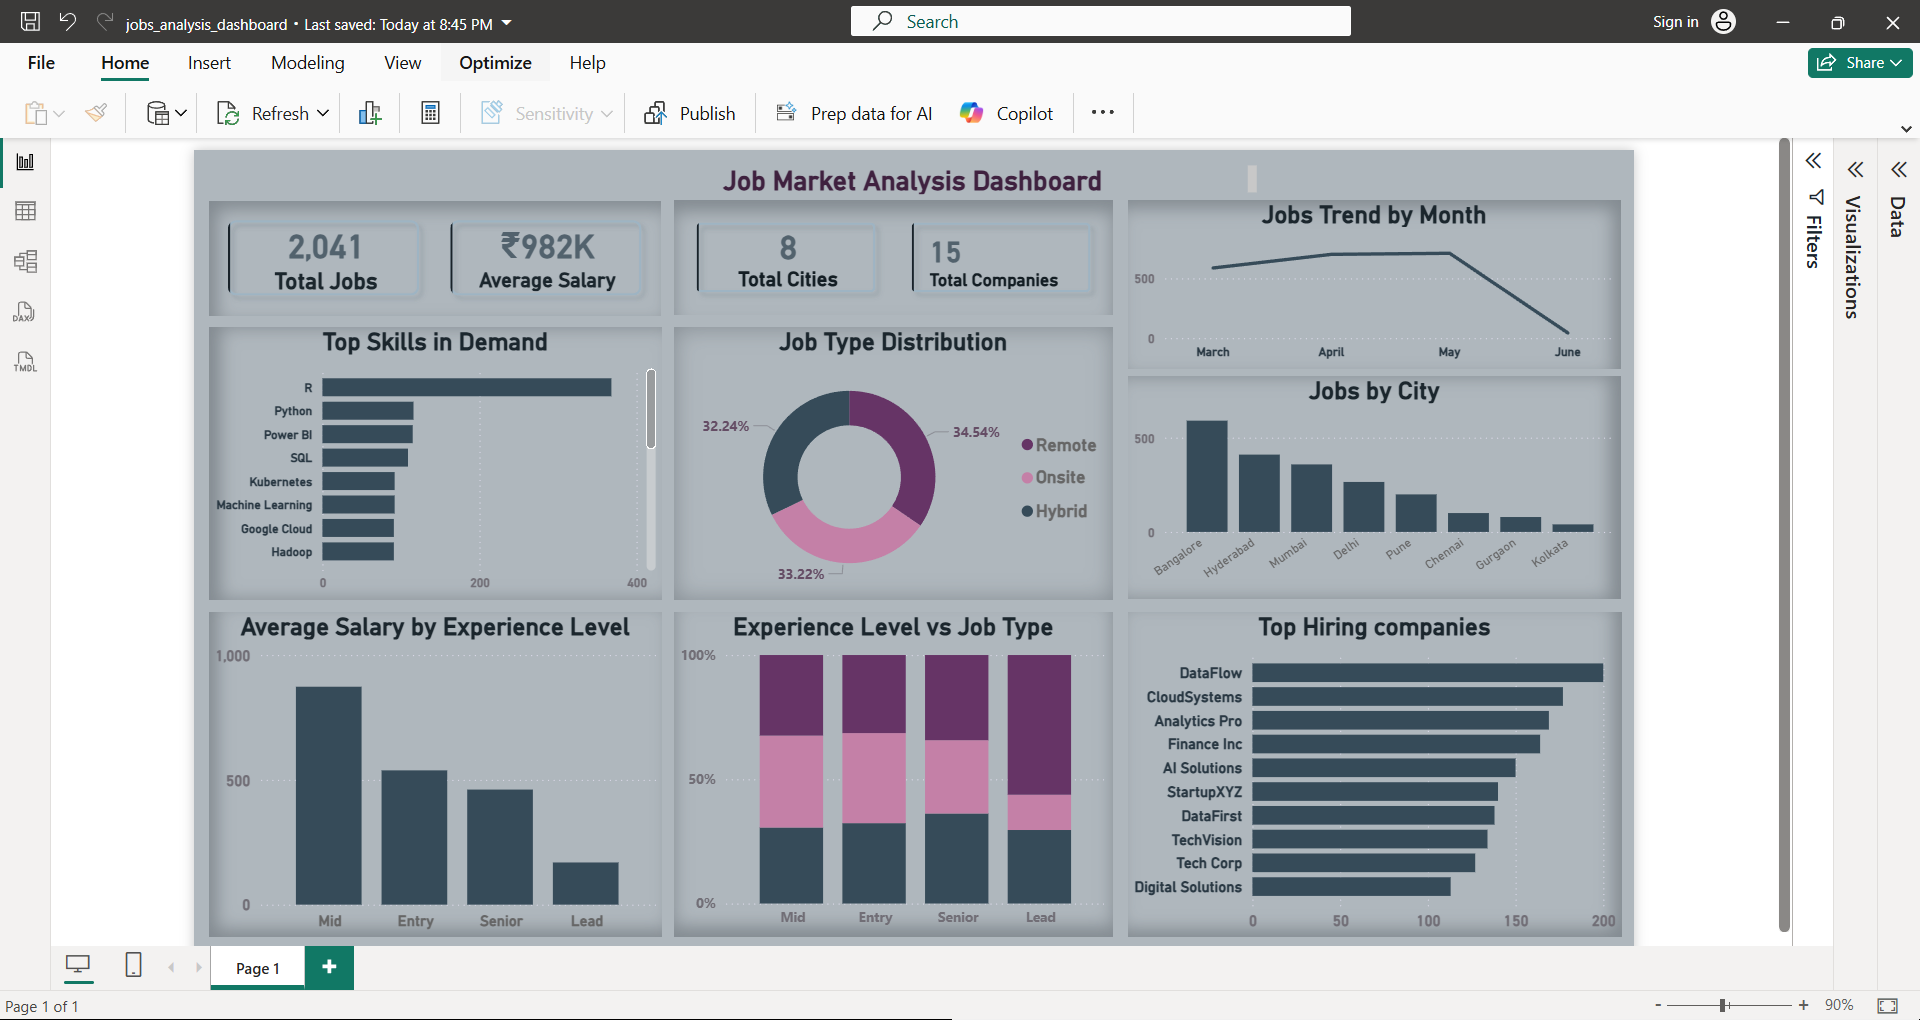

Layout of this report page (visuals, bound fields, positions):
{"tool":"powerbi","page":{"name":"Page 1","canvas":[1280,720],"ordinal":0},"visuals":[{"type":"cardVisual","fields":{"Data":["CountNonNull(job_market_for_powerbi.job_id)","Avg(job_market_for_powerbi.salary_avg)"]},"box":[13.3,45,401.7,101.7],"z":0},{"type":"clusteredColumnChart","title":"Jobs by City","fields":{"Y":["CountNonNull(job_market_for_powerbi.job_id)"],"Category":["job_market_for_powerbi.location_clean"]},"box":[830,201.4,438.6,198.6],"z":1000},{"type":"donutChart","title":"Job Type Distribution","fields":{"Category":["job_market_for_powerbi.job_type"],"Y":["CountNonNull(job_market_for_powerbi.job_id)"]},"box":[426.7,157.8,390,242.2],"z":2000},{"type":"hundredPercentStackedColumnChart","title":"Experience Level vs Job Type","fields":{"Category":["job_market_for_powerbi.experience_level"],"Y":["CountNonNull(job_market_for_powerbi.job_id)"],"Series":["job_market_for_powerbi.job_type"]},"box":[426.7,411.1,390,288.9],"z":3000},{"type":"clusteredBarChart","title":"Top Hiring companies","fields":{"Category":["job_market_for_powerbi.company"],"Y":["CountNonNull(job_market_for_powerbi.job_id)"]},"box":[830,411.1,438.9,288.9],"z":4000},{"type":"clusteredColumnChart","title":"Average Salary by Experience Level","fields":{"Category":["job_market_for_powerbi.experience_level"],"Y":["CountNonNull(job_market_for_powerbi.salary_avg)"]},"box":[13.3,411.1,402.2,288.9],"z":5000},{"type":"lineChart","title":"Jobs Trend by Month","fields":{"Category":["job_market_for_powerbi.month.Variation.Date Hierarchy.Month"],"Y":["CountNonNull(job_market_for_powerbi.job_id)"]},"box":[830,44.3,438.6,150],"z":6000},{"type":"cardVisual","fields":{"Data":["job_market_for_powerbi.Total Cities","job_market_for_powerbi.Total Companies"]},"box":[426.7,44.4,390,102.2],"z":7000},{"type":"clusteredBarChart","title":"Top Skills in Demand","fields":{"Category":["job_market_for_powerbi.Skills"],"Y":["CountNonNull(job_market_for_powerbi.Value)"]},"box":[13.3,157.8,402.2,242.2],"z":8000},{"type":"textbox","box":[337.1,8.6,612.9,35.7],"z":8001}]}

Visuals, with their boxes on the page's 1280x720 design canvas (x1, y1, x2, y2). These are canvas units, not pixel positions in the 1920x1020 screenshot, which may show the page scaled, cropped or inside an application window:
cardVisual - CountNonNull(job_market_for_powerbi.job_id) x Avg(job_market_for_powerbi.salary_avg): x1=13, y1=45, x2=415, y2=147
"Jobs by City" clusteredColumnChart: x1=830, y1=201, x2=1269, y2=400
"Job Type Distribution" donutChart: x1=427, y1=158, x2=817, y2=400
"Experience Level vs Job Type" hundredPercentStackedColumnChart: x1=427, y1=411, x2=817, y2=700
"Top Hiring companies" clusteredBarChart: x1=830, y1=411, x2=1269, y2=700
"Average Salary by Experience Level" clusteredColumnChart: x1=13, y1=411, x2=416, y2=700
"Jobs Trend by Month" lineChart: x1=830, y1=44, x2=1269, y2=194
cardVisual - job_market_for_powerbi.Total Cities x job_market_for_powerbi.Total Companies: x1=427, y1=44, x2=817, y2=147
"Top Skills in Demand" clusteredBarChart: x1=13, y1=158, x2=416, y2=400
textbox: x1=337, y1=9, x2=950, y2=44
